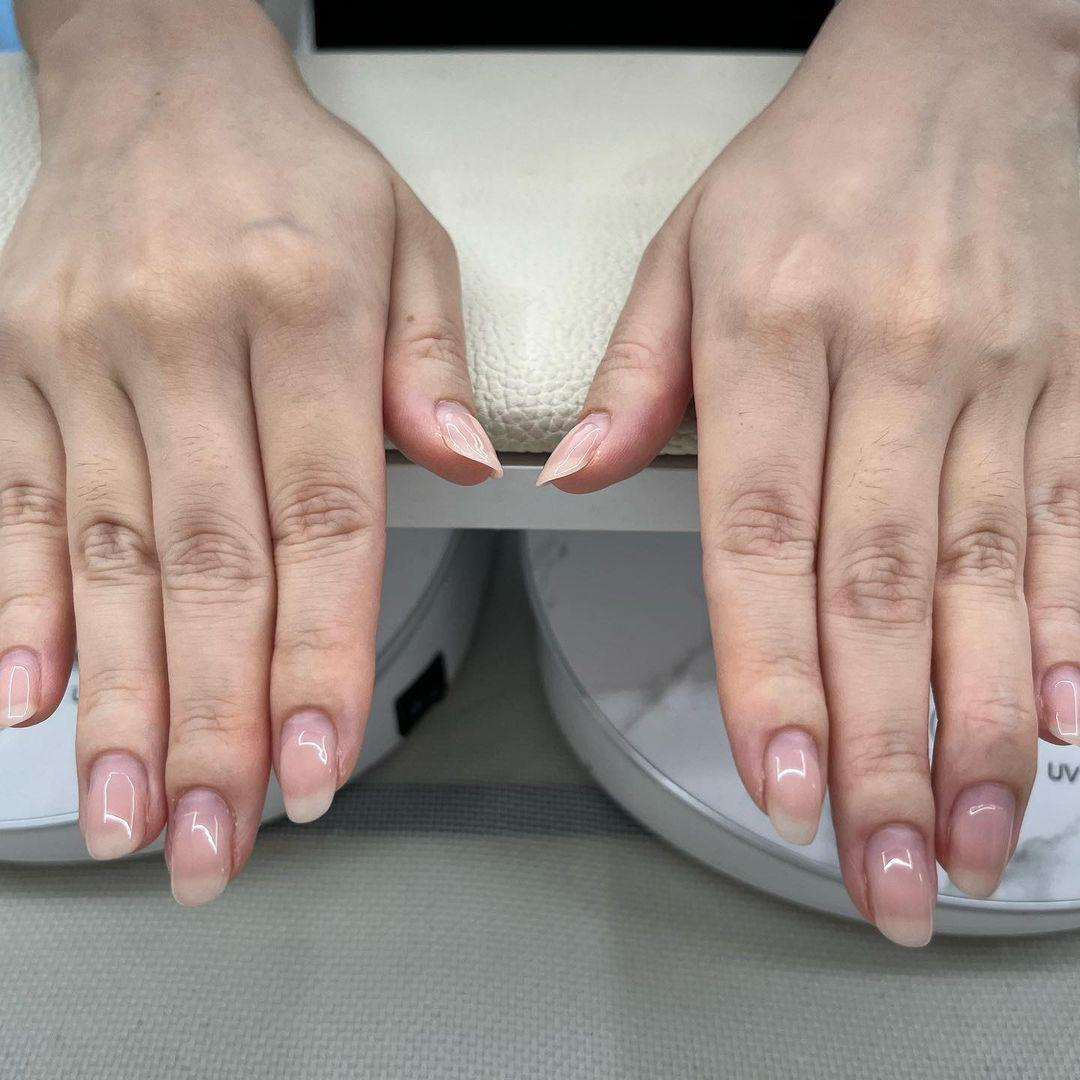nail: (862, 819, 937, 948), (942, 779, 1016, 898), (164, 785, 233, 906), (80, 747, 150, 860), (273, 706, 339, 824), (761, 725, 823, 845), (534, 409, 610, 487), (433, 398, 504, 479), (0, 645, 41, 727), (1040, 662, 1079, 743)
